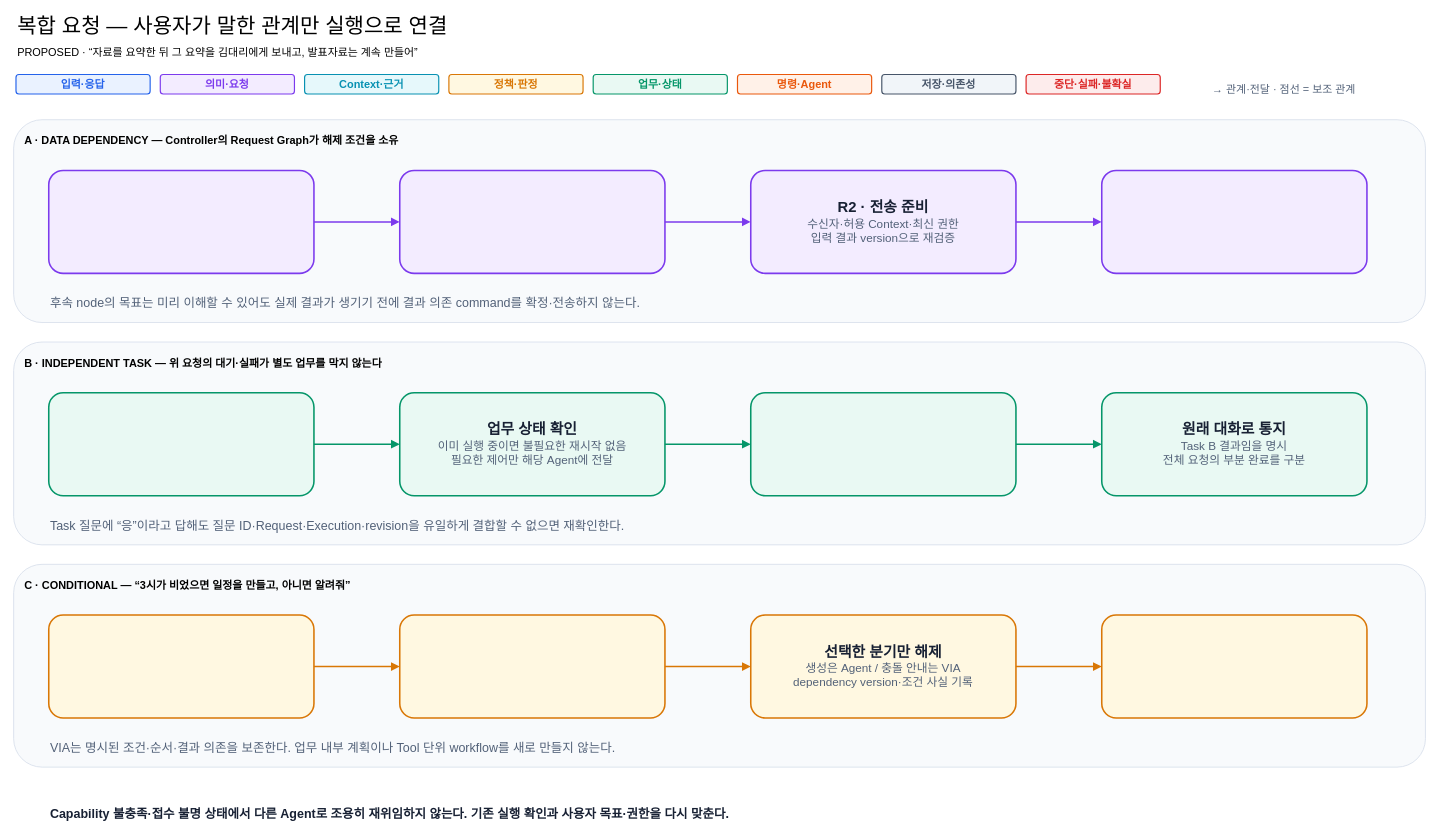
Image size: 1439x836. Some labels were removed from this diagram. Here are the shapes that lost their labels. From the top down, the centre of each, then its label:
At pixel 181 221: "R1 · 자료 요약 범위가 명확하면 VIA 직접 처리 조사·업무 분석이면 Agent 위임".
At pixel 532 221: "결과 version 고정 실제 summary ID·내용 version 실패 / 미완료이면 R2를 보류".
At pixel 1234 221: "Task + Agent Command 해제 key로 중복 dispatch 방지 실제 발송·도구 계획은 Agent 책임".
At pixel 181 444: "R3 · 발표자료 계속 기존 Task B와 Execution 연결 새 목표로 잘못 분리하지 않음".
At pixel 883 444: "별도 진행·결과 다른 Agent 또는 같은 Agent여도 Task·Execution identity로 구분".
At pixel 181 666: "조건 근거 확보 일정의 source revision·조회 시각 업무 분석 조건이면 Agent가 판단".
At pixel 532 666: "참 / 거짓 / 불명 불명을 거짓으로 간주하지 않음 모호하면 추가 근거·질문".
At pixel 1234 666: "실행 전 재확인 Agent가 외부 precondition 검증 일정 변경 경쟁 시 보류·재검증".
